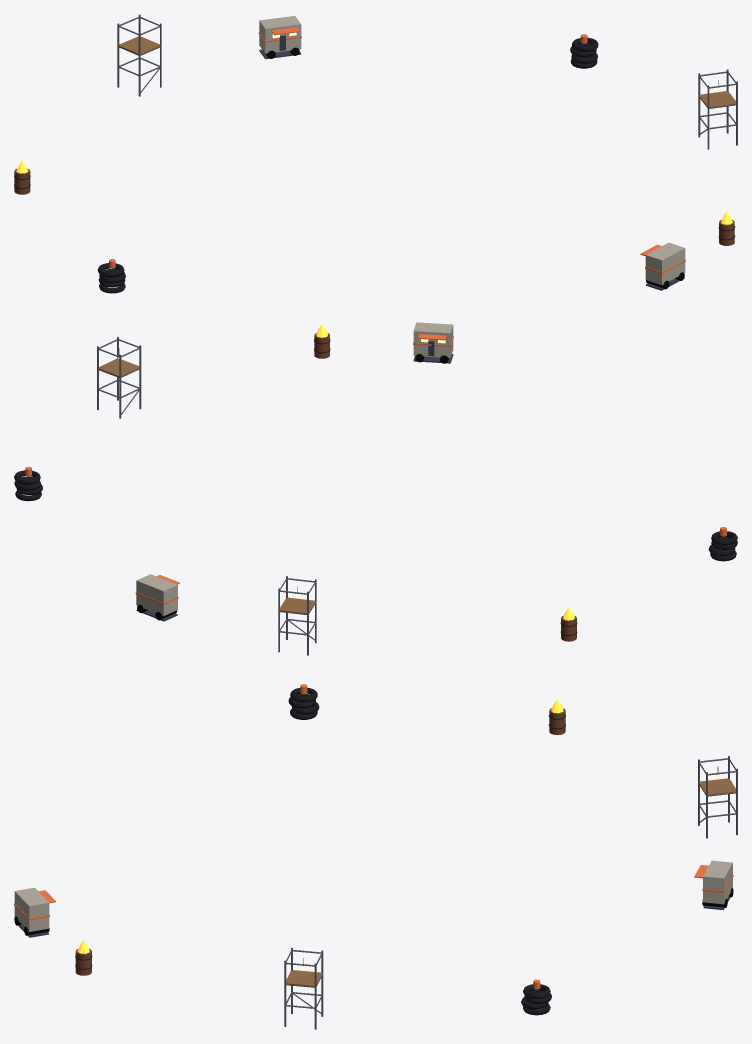
3 views of the same model, one above another, from view 1: azimuth 30°, elevation 25°; view 2: azimuth 150°, elevation 25°; view 3: azimuth 270°, elevation 25° (orthographic). The views are drawn at different scales.
Visible parts, largest first — view 1: nexo_decor_vertical.lod1; view 2: nexo_decor_vertical.lod1; view 3: nexo_decor_vertical.lod1.
Boxes of the visible parts, x1,y1,x2,y2 form: nexo_decor_vertical.lod1: (14, 14, 737, 293); nexo_decor_vertical.lod1: (14, 322, 737, 655); nexo_decor_vertical.lod1: (14, 684, 737, 1029).
Size of the model in its own units: 29.33 by 2.8 by 27.97.
